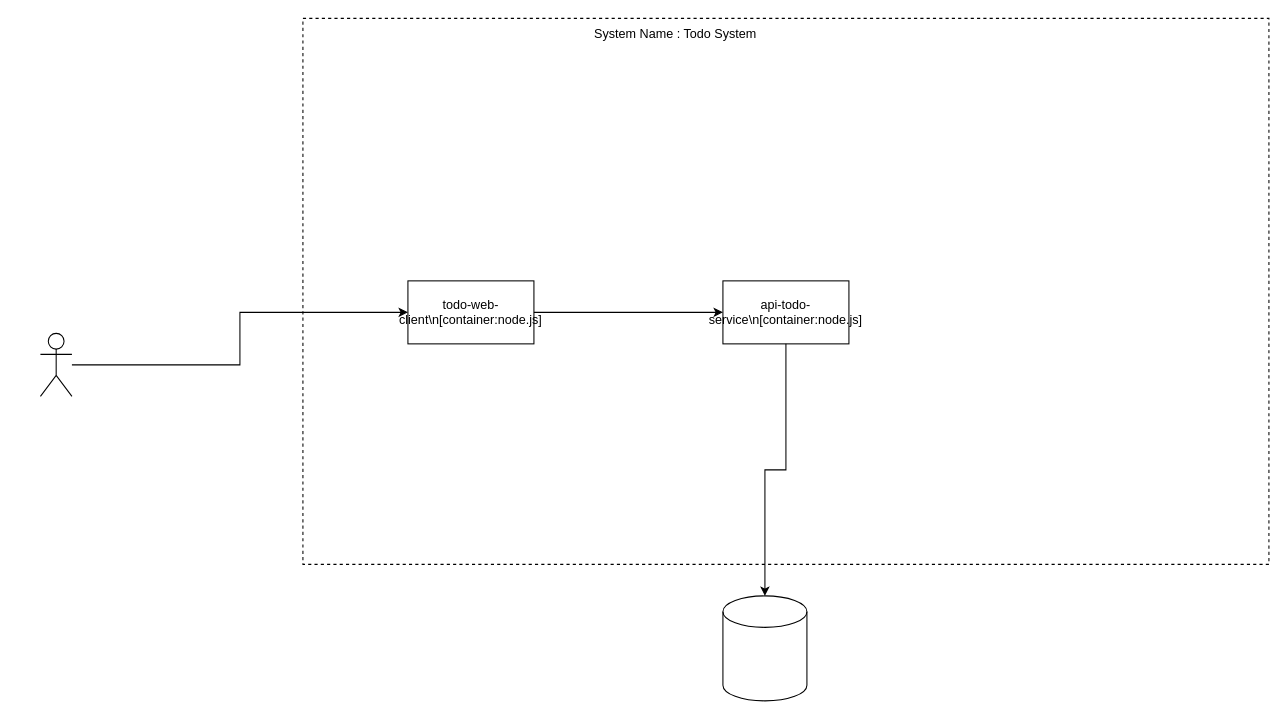
This 1287x719 diagram has some shape labels left out. The centre of each missing label's shape, as x and y in pixels:
"Todo System DB\n[Postgresql]" goes at (x=764, y=648).
"Website User" goes at (x=55, y=364).
